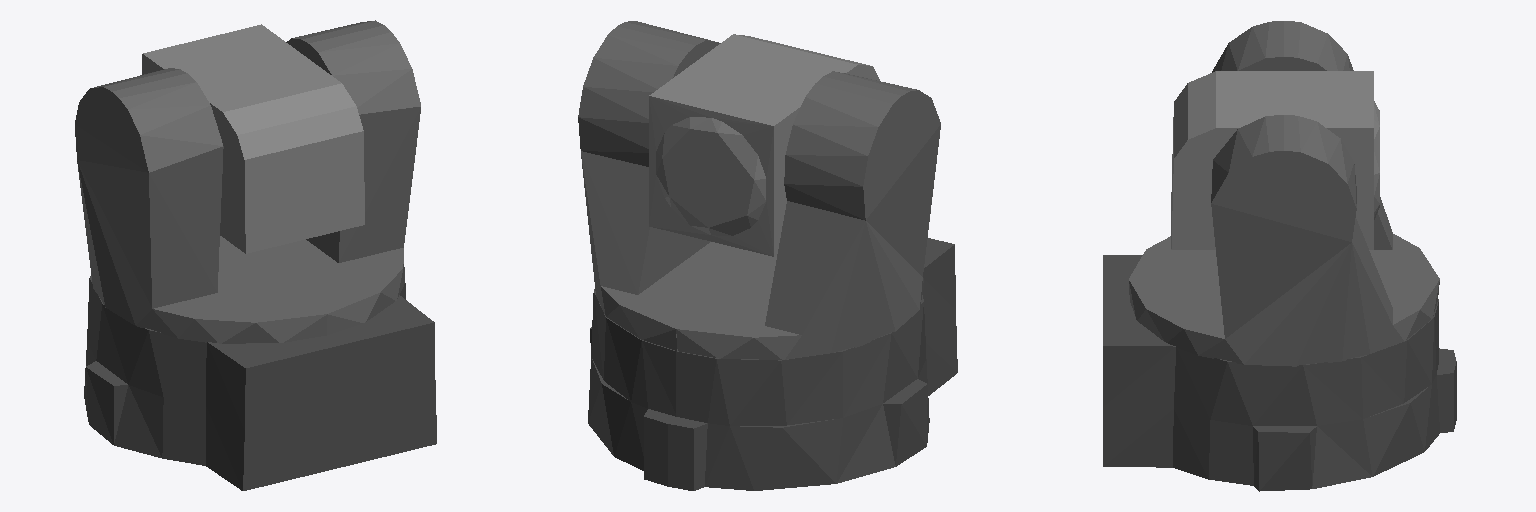
URDF robot description (axis):
<?xml version="1.0" ?>
<!-- Axis 214 PTZ camera model. Contains both a simple visual model and a primitive-shape-only collision model. -->
<robot name="axis">
  <link name="axis_stand">
    <visual>
      <origin rpy="0 0 0" xyz="0 0 0"/>
      <geometry>
        <mesh filename="package://axis_camera/meshes/stand.dae" scale="1.0 1.0 1.0"/>
      </geometry>
    </visual>
    <collision>
      <origin rpy="0 0 0" xyz="0 0 0.0295"/>
      <geometry>
        <cylinder radius="0.077" length="0.059"/>
      </geometry>
    </collision>
    <collision>
      <origin rpy="0 0 0" xyz="0 -0.063 0.0295"/>
      <geometry>
        <box size="0.098 0.035 0.059"/>
      </geometry>
    </collision>
  </link>
  
  <link name="axis_pan_head">
    <visual>
      <origin rpy="0 0 0" xyz="0 0 0"/>
      <geometry>
        <mesh filename="package://axis_camera/meshes/pan_head.dae" scale="1.0 1.0 1.0"/>
      </geometry>
    </visual>
    <collision>
      <origin rpy="0 0 0" xyz="0 0 0.0055"/>
      <geometry>
        <cylinder radius="0.069" length="0.011"/>
      </geometry>
    </collision>
    <collision>
      <origin rpy="0 1.5708 0" xyz="0 0 0.073"/>
      <geometry>
        <cylinder radius="0.033" length="0.14"/>
      </geometry>
    </collision>
    <collision>
      <origin rpy="0 0 0" xyz="0.05 0.008 0.03"/>
      <geometry>
        <box size="0.045 0.075 0.06"/>
      </geometry>
    </collision>
    <collision>
      <origin rpy="0 0 0" xyz="-0.05 0.008 0.03"/>
      <geometry>
        <box size="0.045 0.075 0.06"/>
      </geometry>
    </collision>
  </link>
  <joint name="axis_pan_j" type="revolute">
    <parent link="axis_stand"/>
    <child link="axis_pan_head"/>
    <origin rpy="0 0 0" xyz="0 0 0.059"/>
    <axis xyz="0 0 1"/>
    <dynamics damping="10000000"/>
    <limit effort="0" lower="-2.9671" upper="2.9671" velocity="4"/>
  </joint>
  
  <link name="axis_tilt_head">
    <visual>
      <origin rpy="0 0 0" xyz="0 0 0"/>
      <geometry>
        <mesh filename="package://axis_camera/meshes/tilt_head.dae" scale="1.0 1.0 1.0"/>
      </geometry>
    </visual>
    <collision>
      <origin rpy="0 0 0" xyz="0 -0.003 0"/>
      <geometry>
        <box size="0.062 0.095 0.062"/>
      </geometry>
    </collision>
  </link>
  <joint name="axis_tilt_j" type="revolute">
    <parent link="axis_pan_head"/>
    <child link="axis_tilt_head"/>
    <origin rpy="0 0 0" xyz="0 0 0.0687"/>
    <axis xyz="1 0 0"/>
    <dynamics damping="10000000"/>
    <limit effort="0" lower="-0.5236" upper="1.5708" velocity="4"/>
  </joint>
</robot>

--- Render facts (derived) ---
3 views of the same robot in one strip: view 1: azimuth 30°, elevation 25°; view 2: azimuth 150°, elevation 25°; view 3: azimuth 270°, elevation 25° (orthographic).
Robot: axis — 3 links, 2 joints (2 revolute); root link axis_stand; default pose: all joints at 0.
Links seen in each view (by area): view 1: axis_pan_head, axis_stand, axis_tilt_head; view 2: axis_pan_head, axis_stand, axis_tilt_head; view 3: axis_pan_head, axis_stand, axis_tilt_head.
Boxes of the visible links, <box> form: axis_pan_head: <box>75,20,420,343</box>; axis_stand: <box>84,276,436,490</box>; axis_tilt_head: <box>142,24,364,253</box>; axis_pan_head: <box>578,21,940,359</box>; axis_stand: <box>588,238,957,490</box>; axis_tilt_head: <box>649,34,879,256</box>; axis_pan_head: <box>1129,21,1439,366</box>; axis_stand: <box>1103,255,1456,491</box>; axis_tilt_head: <box>1171,71,1379,249</box>.
Size in the robot's own frame: 0.1498 by 0.1571 by 0.1643 metres.
3 mesh visuals loaded from 3 distinct referenced files (3 Collada DAE).